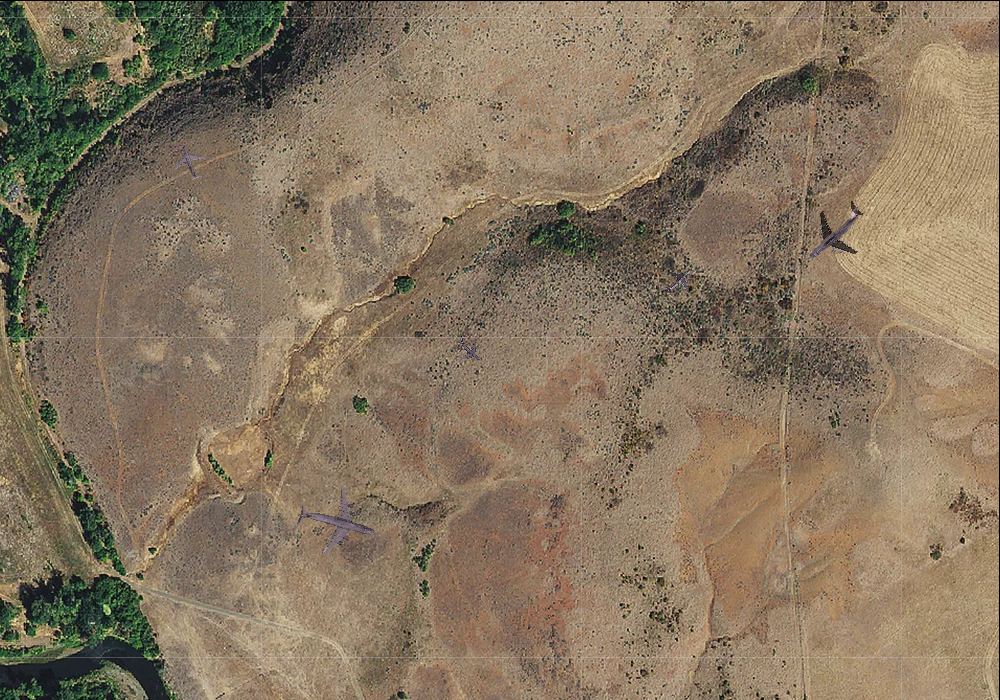plane: (287, 476, 384, 570), (787, 185, 882, 279), (166, 138, 212, 185), (658, 259, 700, 301), (450, 331, 489, 369)
